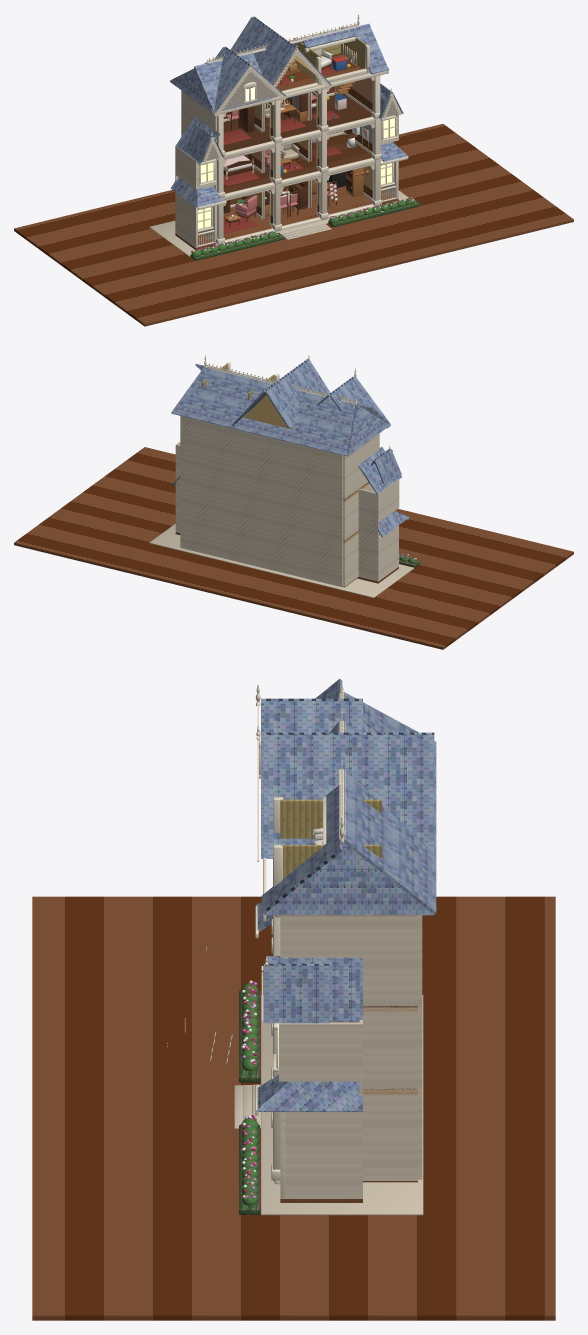
The model's file is house.glb.
3 views of the same model, one above another, from view 1: azimuth 30°, elevation 25°; view 2: azimuth 150°, elevation 25°; view 3: azimuth 270°, elevation 25° (orthographic). The views are drawn at different scales.
Visible parts, largest first — view 1: tabletop.007, gableRoofC-1, floorF1_top, roofFront.002, gableRoofL-1, sideWall, floorF2_top.005, post3, beam.002, beam.001, post2, post1 (+20 smaller); view 2: tabletop.007, backWall, roofBack, sideWall, plinth, gableRoofC-1, wingBack, roofHipL, wingSide, gableRoofL-1, attic_c_back, bayWall (+5 smaller); view 3: tabletop.007, sideWall.001, gableRoofC1, roofBack, wingSide.001, roofHipR, plinth, bayWall.001, wingGableRoof.003, gableRoofL1, wingRoof1.001, wingRoof2.001 (+7 smaller).
Part boxes in pixels (x1=…): tabletop.007: x1=14, y1=124, x2=573, y2=326; gableRoofC-1: x1=230, y1=17, x2=295, y2=84; floorF1_top: x1=223, y1=186, x2=371, y2=239; roofFront.002: x1=194, y1=52, x2=272, y2=112; gableRoofL-1: x1=212, y1=47, x2=249, y2=113; sideWall: x1=181, y1=90, x2=216, y2=242; floorF2_top.005: x1=296, y1=139, x2=371, y2=172; post3: x1=372, y1=75, x2=380, y2=206; beam.002: x1=215, y1=116, x2=380, y2=160; beam.001: x1=223, y1=158, x2=380, y2=199; post2: x1=319, y1=82, x2=326, y2=219; post1: x1=273, y1=100, x2=280, y2=231; tabletop.007: x1=14, y1=447, x2=573, y2=649; backWall: x1=180, y1=416, x2=343, y2=587; roofBack: x1=172, y1=367, x2=355, y2=456; sideWall: x1=343, y1=434, x2=379, y2=586; plinth: x1=149, y1=524, x2=414, y2=597; gableRoofC-1: x1=265, y1=359, x2=330, y2=428; wingBack: x1=358, y1=489, x2=379, y2=581; roofHipL: x1=347, y1=404, x2=390, y2=456; wingSide: x1=377, y1=525, x2=398, y2=580; gableRoofL-1: x1=329, y1=376, x2=390, y2=424; attic_c_back: x1=244, y1=395, x2=290, y2=428; bayWall: x1=377, y1=479, x2=398, y2=522; tabletop.007: x1=32, y1=896, x2=555, y2=1320; sideWall.001: x1=280, y1=915, x2=417, y2=1180; gableRoofC1: x1=261, y1=734, x2=434, y2=858; roofBack: x1=344, y1=692, x2=436, y2=914; wingSide.001: x1=280, y1=1112, x2=362, y2=1198; roofHipR: x1=264, y1=842, x2=433, y2=915; plinth: x1=261, y1=995, x2=423, y2=1215; bayWall.001: x1=280, y1=1022, x2=362, y2=1081; wingGableRoof.003: x1=263, y1=965, x2=329, y2=1023; gableRoofL1: x1=261, y1=701, x2=362, y2=732; wingRoof1.001: x1=255, y1=1081, x2=362, y2=1111; wingRoof2.001: x1=266, y1=956, x2=362, y2=1021.
Size of the model in its own units: 18 by 7.6 by 9.5.
Materials: 58 (11 with a texture image).
